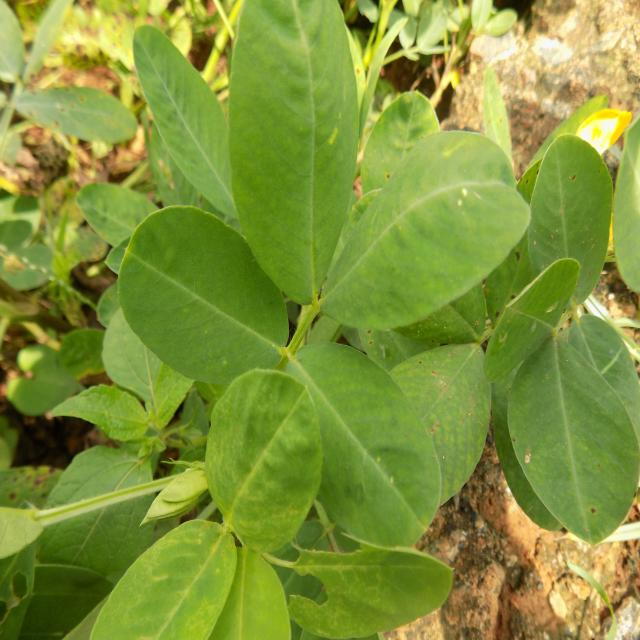Ground nut_healthy: (311, 124, 532, 335), (223, 0, 351, 298), (289, 336, 444, 559), (114, 201, 292, 385), (510, 319, 640, 547), (199, 369, 323, 557), (128, 22, 245, 218), (262, 526, 453, 638), (90, 512, 234, 640), (528, 128, 611, 311), (46, 381, 146, 445)
